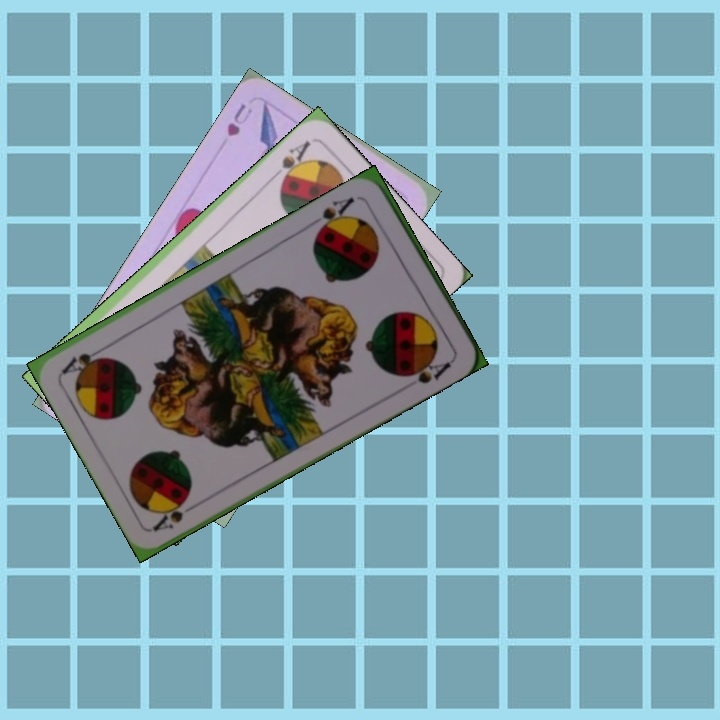HU: (222, 99, 256, 139)
SA: (148, 494, 203, 534), (309, 193, 357, 235), (275, 137, 314, 187)
